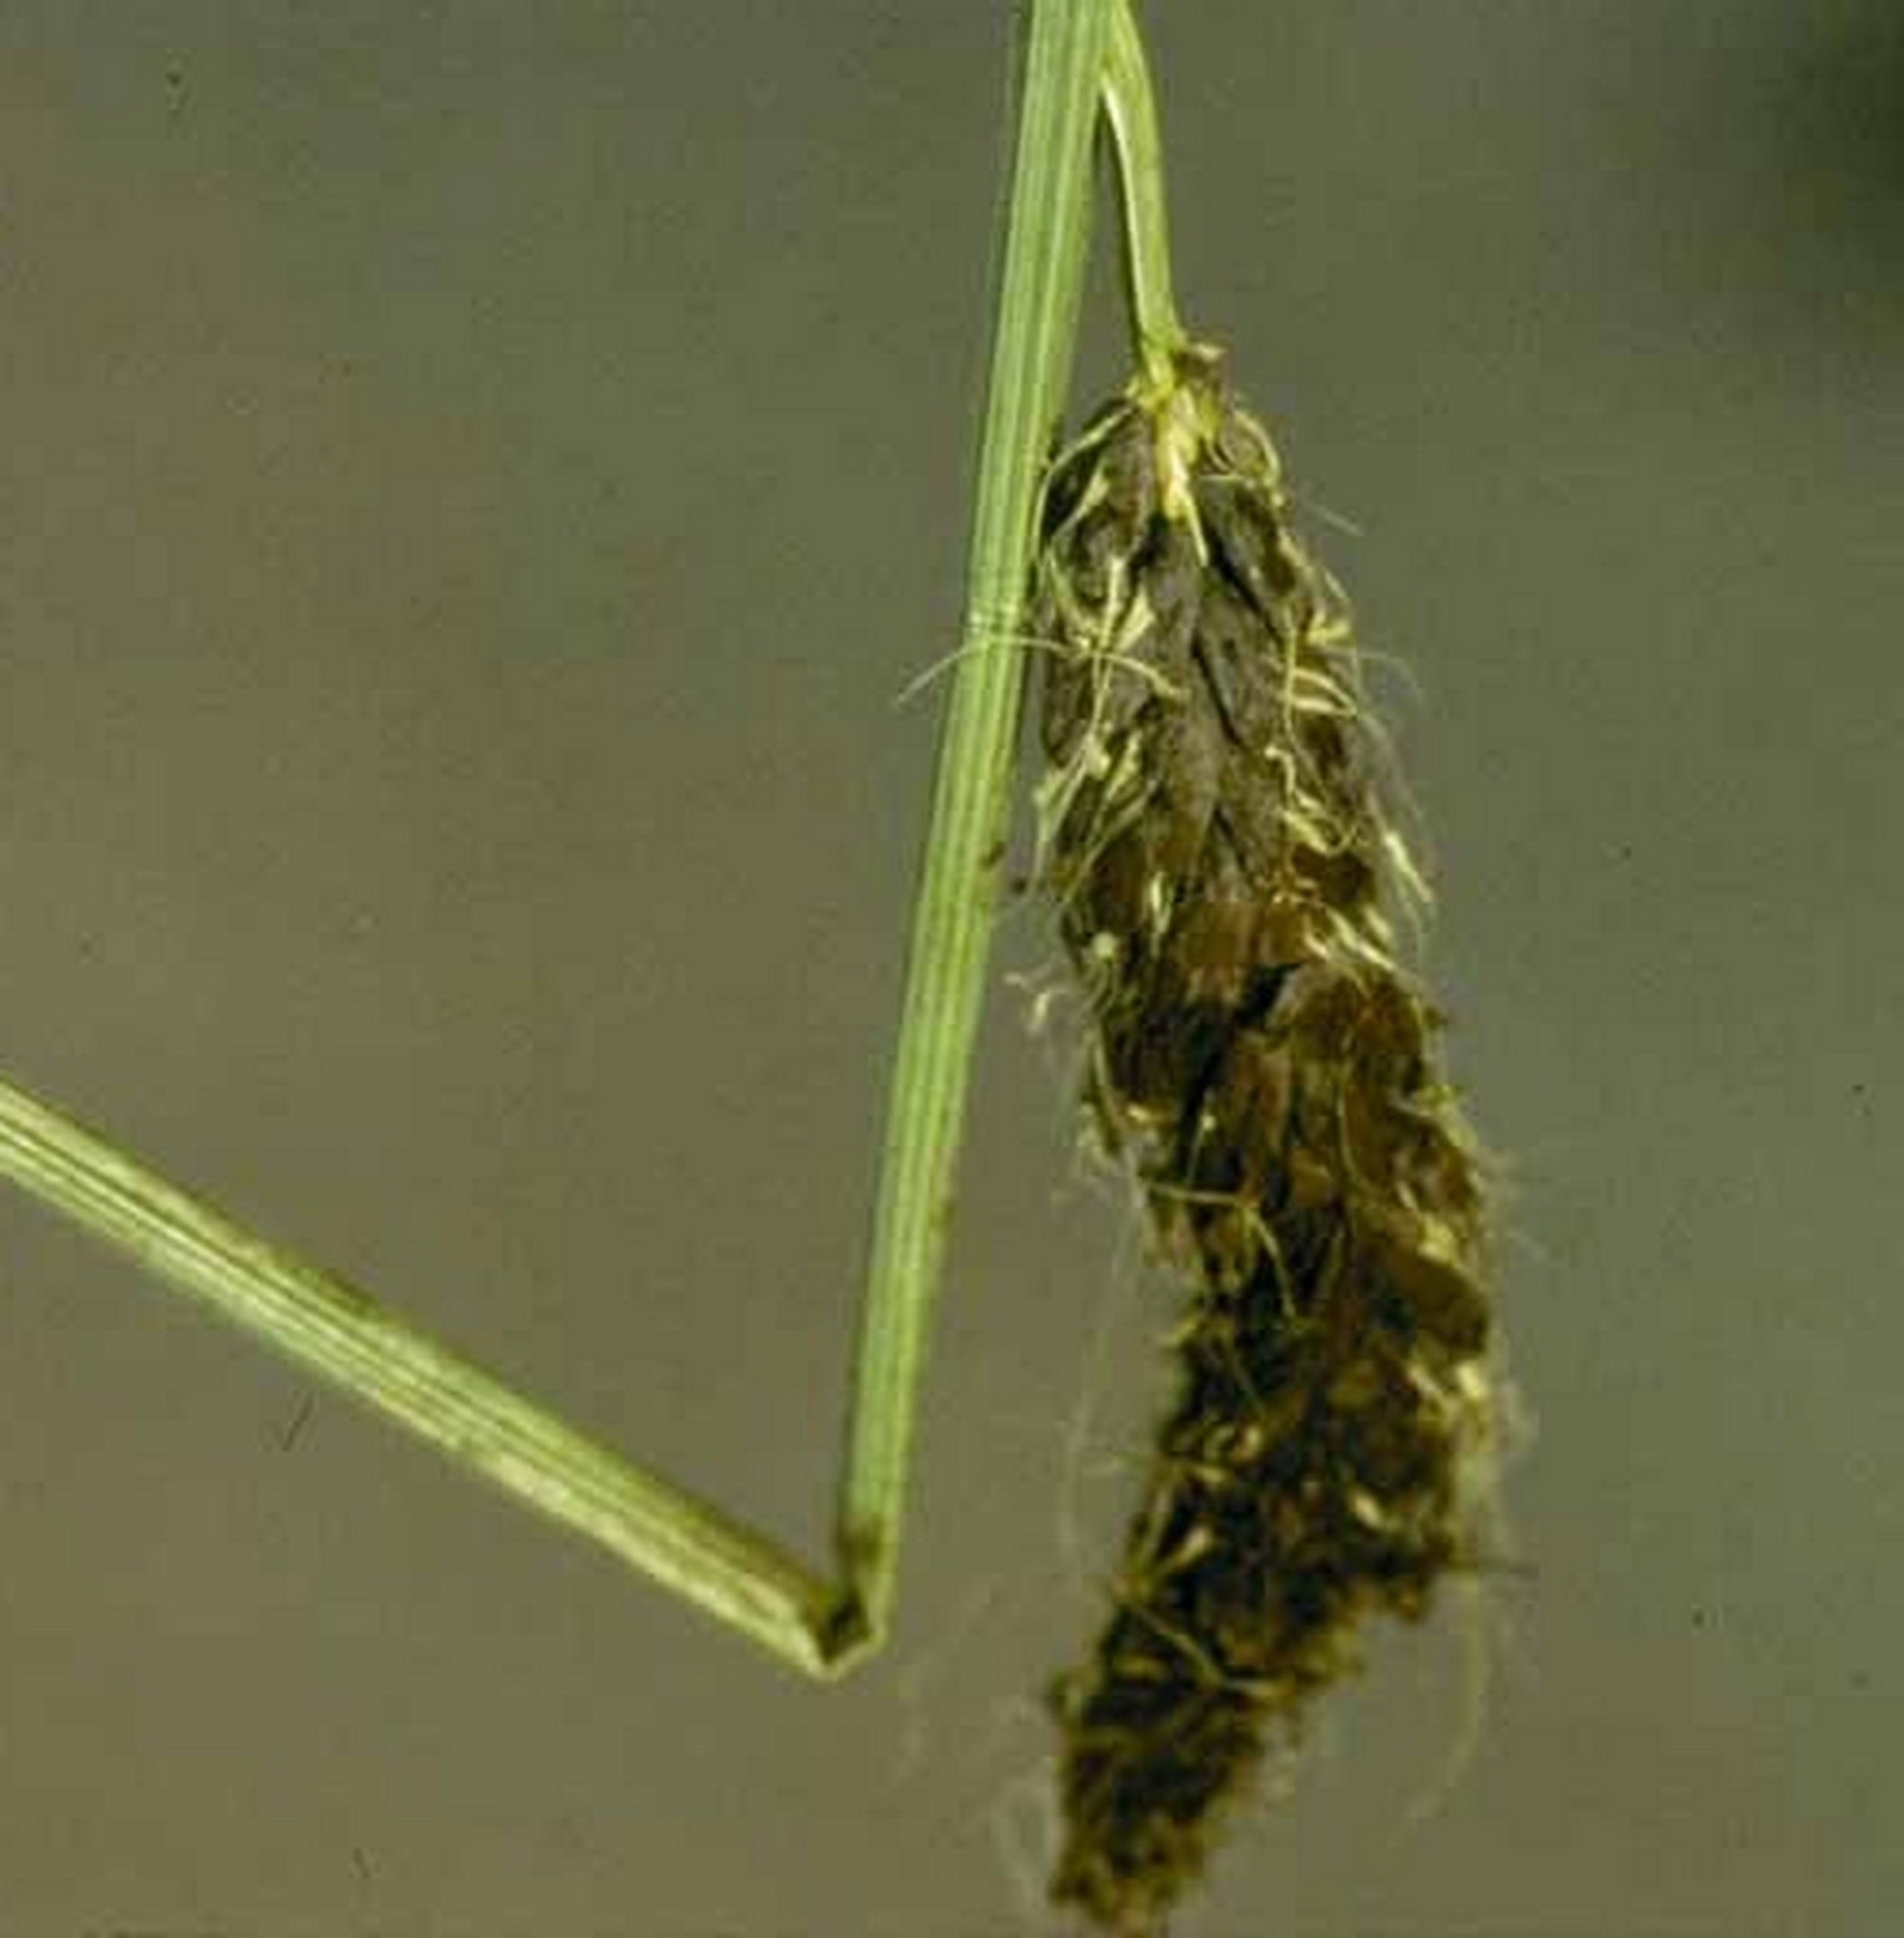Wheat Loose Smut: (996, 359, 1550, 1928)
